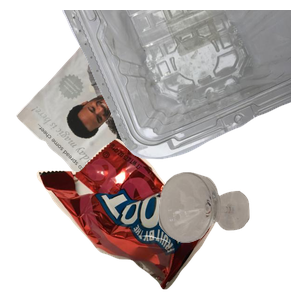glass: (156, 170, 300, 300)
paper: (14, 10, 229, 190)
plastic: (60, 10, 300, 162)
trash: (34, 136, 253, 300)
